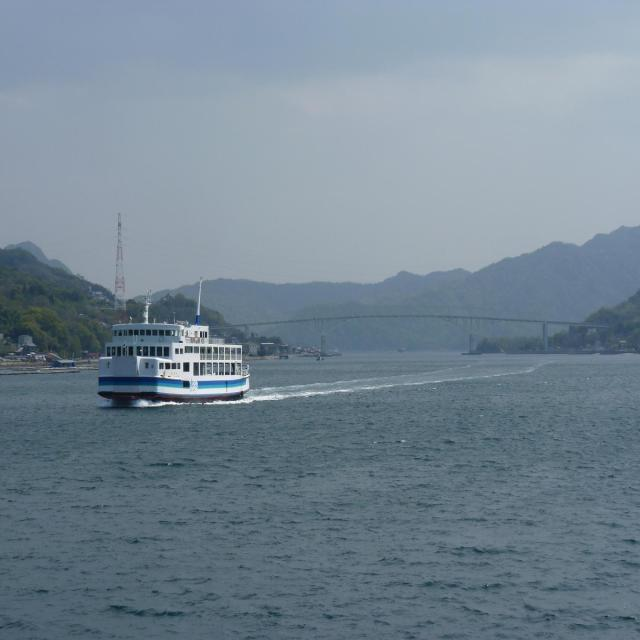houseboat: (90, 286, 252, 413)
